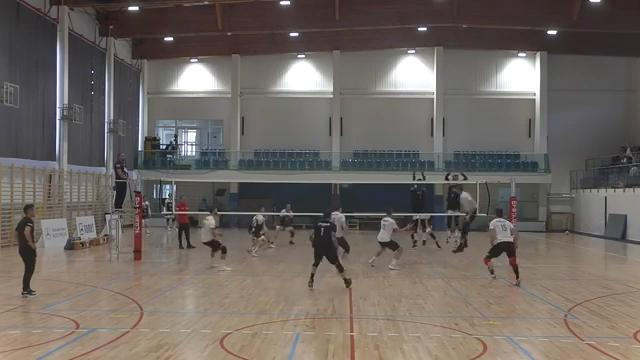attacco: (442, 183, 480, 258)
muro: (442, 168, 469, 250), (407, 166, 431, 250)
